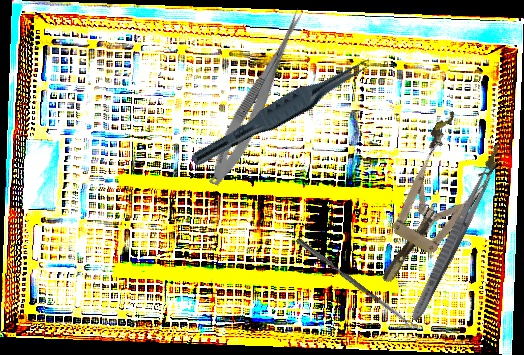Dressing Forceps: (406, 164, 497, 325)
Micro Scissor: (203, 2, 310, 191)
Speculum: (353, 107, 509, 300)
Surgical Spoon: (294, 237, 417, 331)
Tissue Forceps: (189, 47, 376, 177)
